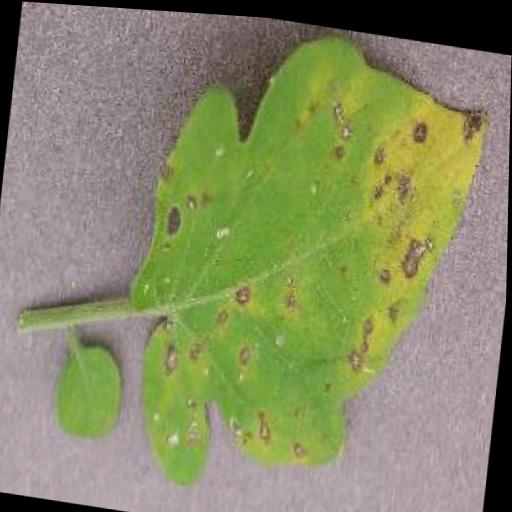Septoria: (113, 8, 498, 512)
